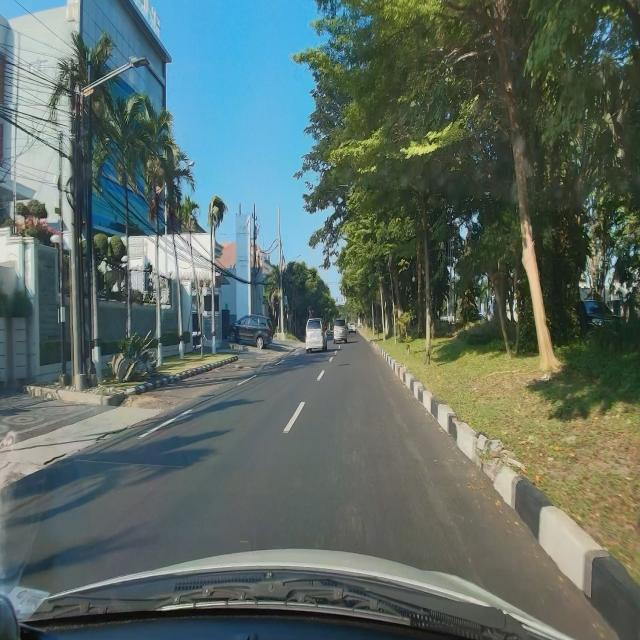car: (304, 317, 328, 356), (332, 317, 348, 347)
